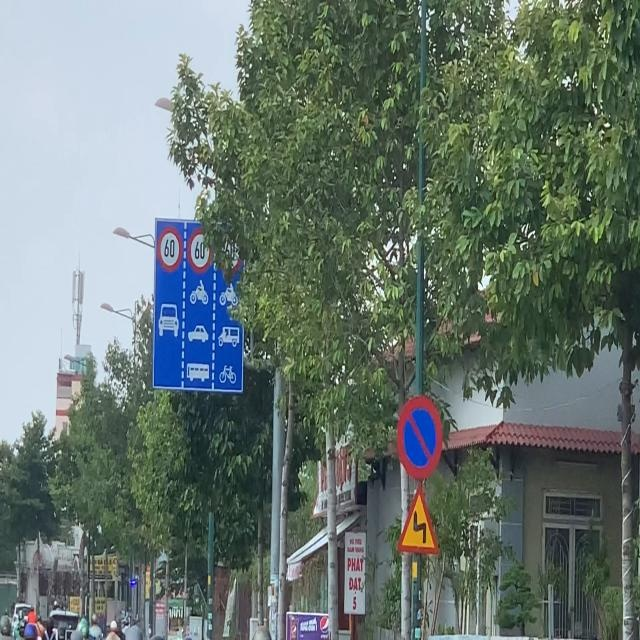bien_cam: (396, 395, 443, 480), (396, 481, 439, 556), (188, 227, 212, 273), (157, 227, 182, 271)
